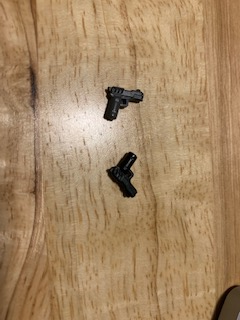pistol: (100, 81, 145, 127), (103, 148, 141, 201)
